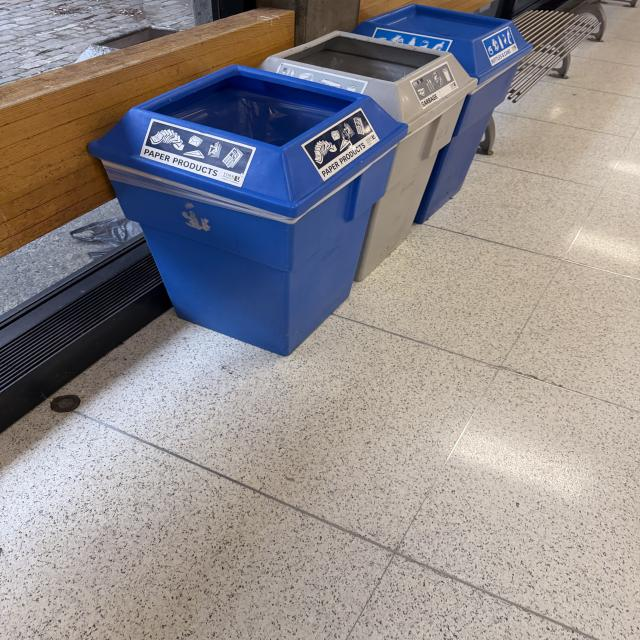Dustbin: (89, 4, 529, 359)
